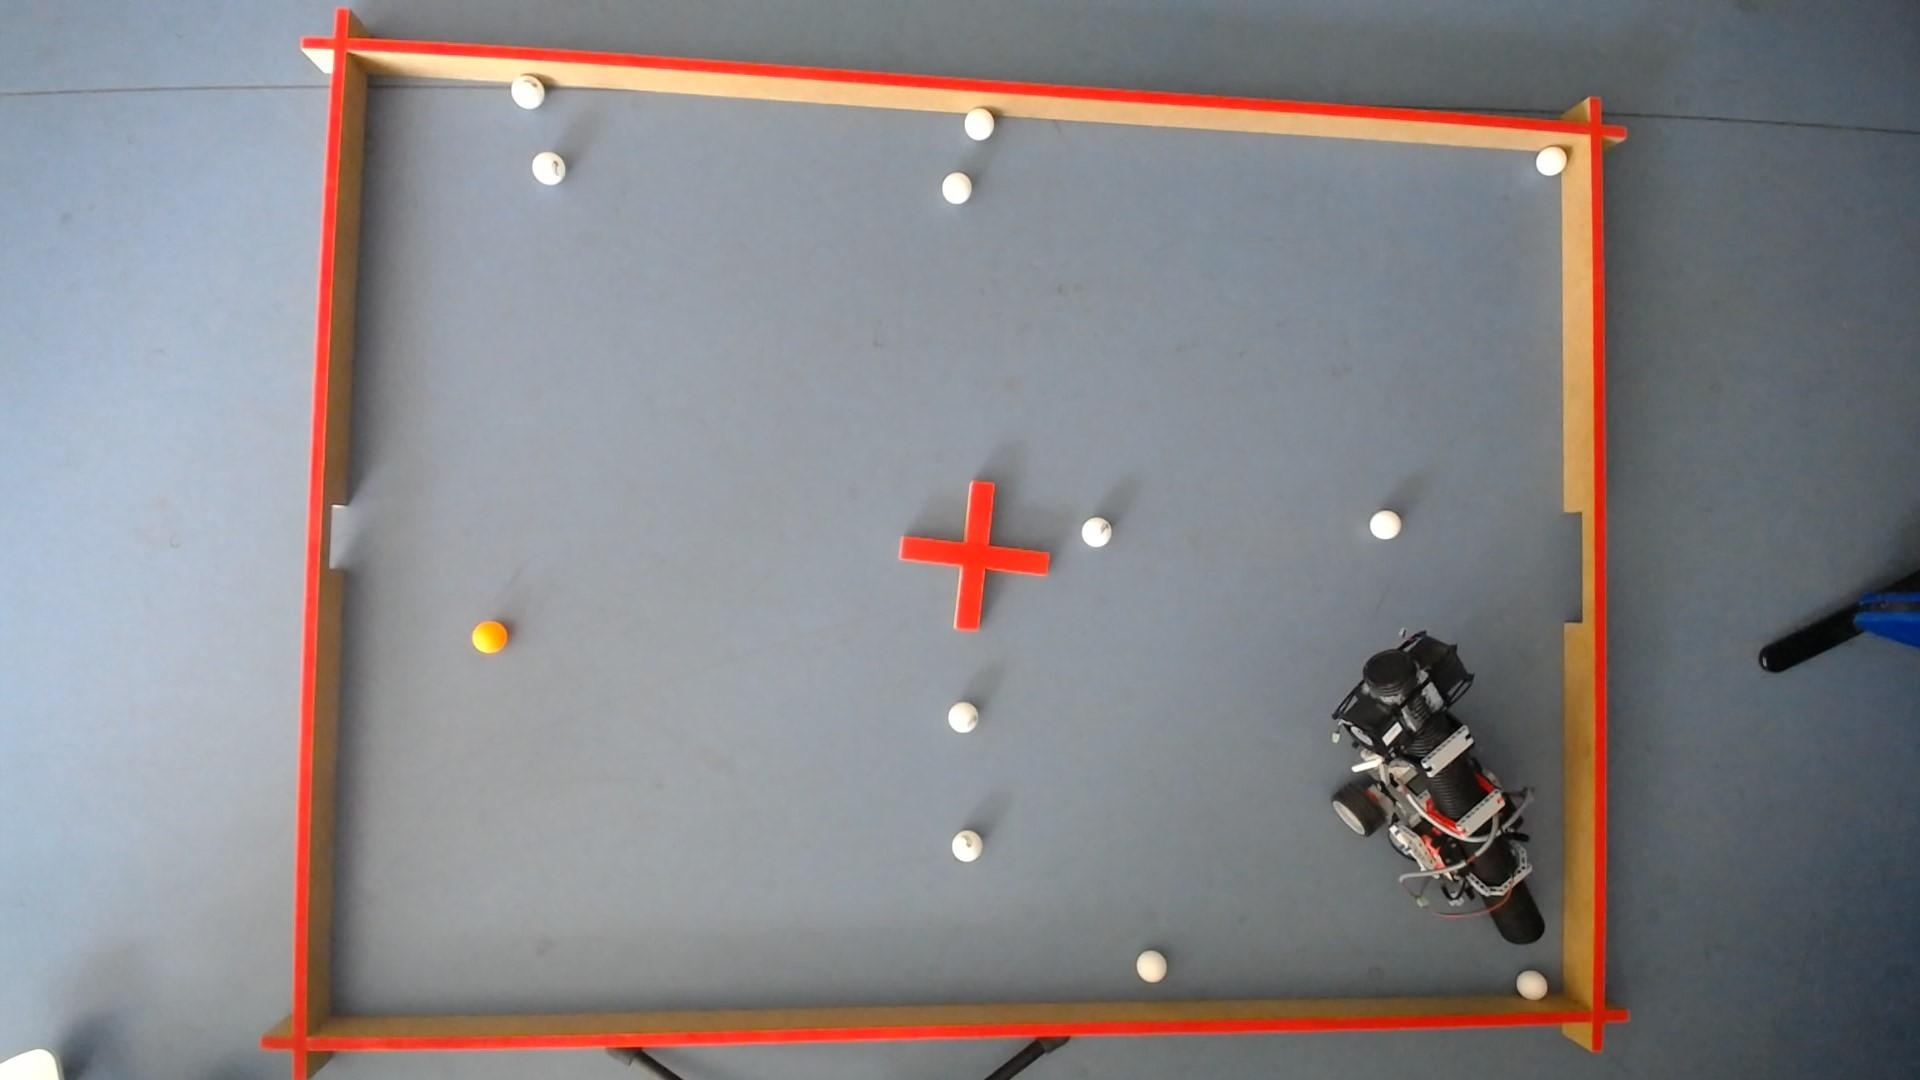orange: (469, 621, 506, 653)
robot: (1335, 632, 1547, 944)
white: (510, 73, 545, 107), (531, 149, 564, 182), (951, 829, 984, 862), (942, 169, 973, 202), (1137, 951, 1168, 984), (1538, 142, 1571, 174), (1518, 971, 1551, 1001), (965, 105, 996, 137), (1371, 509, 1404, 538), (1083, 516, 1113, 546), (949, 702, 978, 732)
